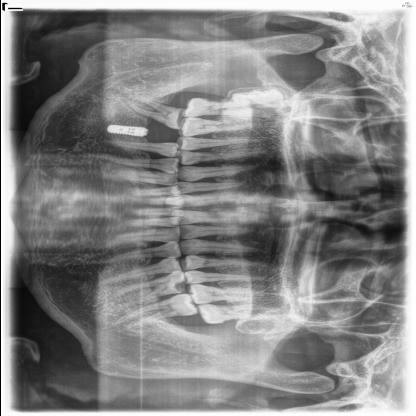ITI: (103, 122, 153, 138)
